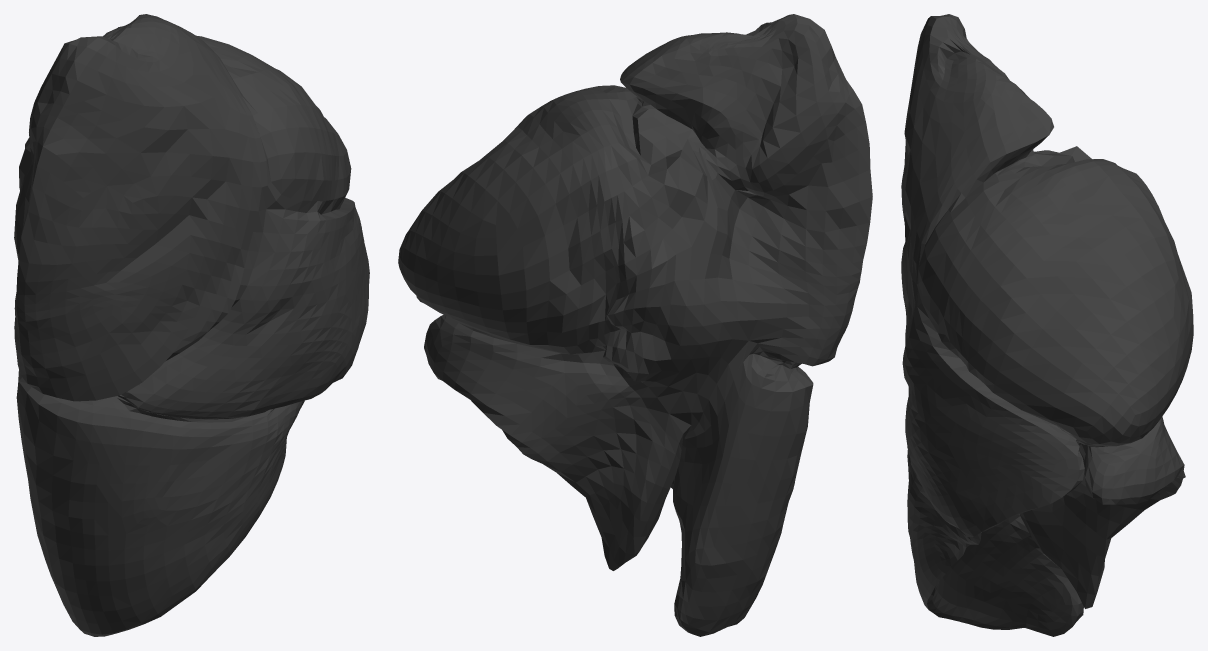
File: mesh_canine_hemithorax_heart.glb
The picture shows the model from 3 angles, left to right: view 1: azimuth 30°, elevation 25°; view 2: azimuth 150°, elevation 25°; view 3: azimuth 270°, elevation 25°; orthographic projection. The views are drawn at different scales.
Parts seen in each view (by area): view 1: mesh_canine_hemithorax_heart; view 2: mesh_canine_hemithorax_heart; view 3: mesh_canine_hemithorax_heart.
Boxes of the visible parts, x1=… form: mesh_canine_hemithorax_heart: x1=14, y1=14, x2=369, y2=636; mesh_canine_hemithorax_heart: x1=398, y1=14, x2=872, y2=636; mesh_canine_hemithorax_heart: x1=901, y1=14, x2=1193, y2=636.
Bounding box in the file's own units: 1.08 × 1.57 × 0.6939.
Materials: 1 (1 with a texture image).
